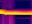Hotspot: (0, 8, 31, 15)
